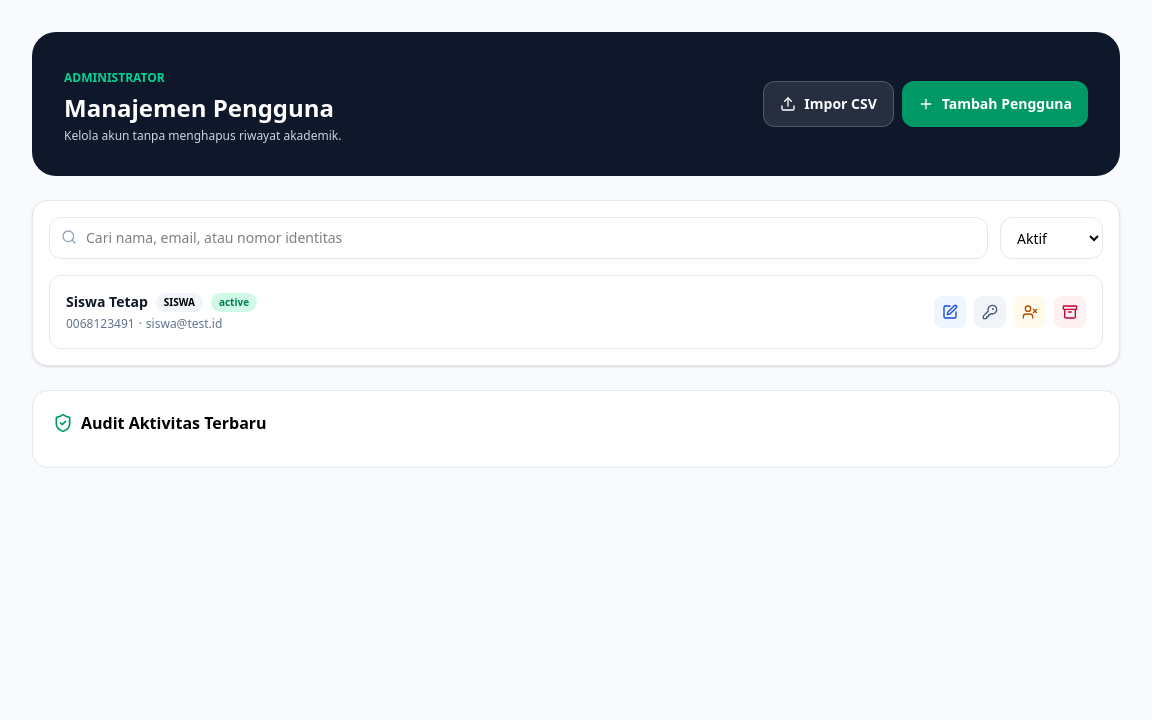
Test case: UserManagementSection error handling › tidak menghilangkan pengguna atau terlihat sukses saat arsip gagal
Expected: the text "Siswa Tetap" is shown, top-left (66, 292), bottom-right (148, 312)
Click the button titled "Arsipkan": click(1070, 312) top-left (1054, 296), bottom-right (1086, 328)
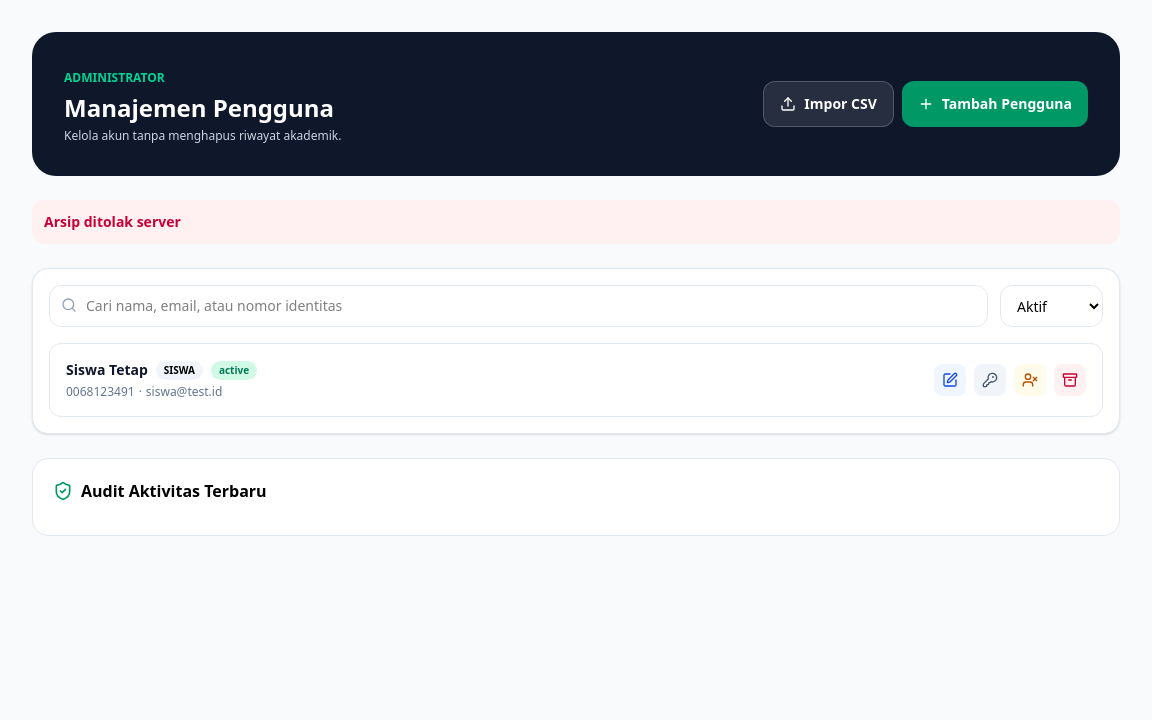
Expected: the text "Siswa Tetap" is shown, top-left (66, 360), bottom-right (148, 380)
Expected: the text "Arsip ditolak server" is shown, top-left (32, 200), bottom-right (1120, 244)
